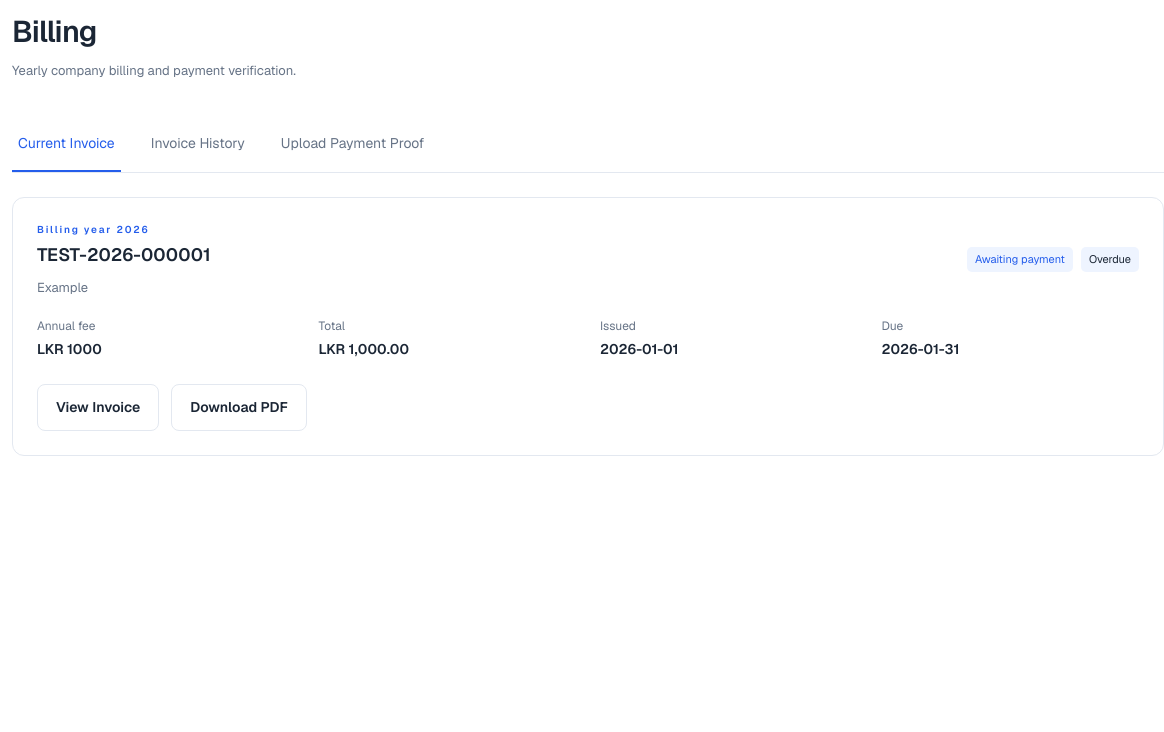
automatically loads the current invoice and switches Chief Steward tabs with keyboard
Expected: the heading "TEST-2026-000001" is shown, top-left (37, 240), bottom-right (211, 268)
Press ArrowRight in the tab "Current Invoice", box top-left (12, 116), bottom-right (121, 172)
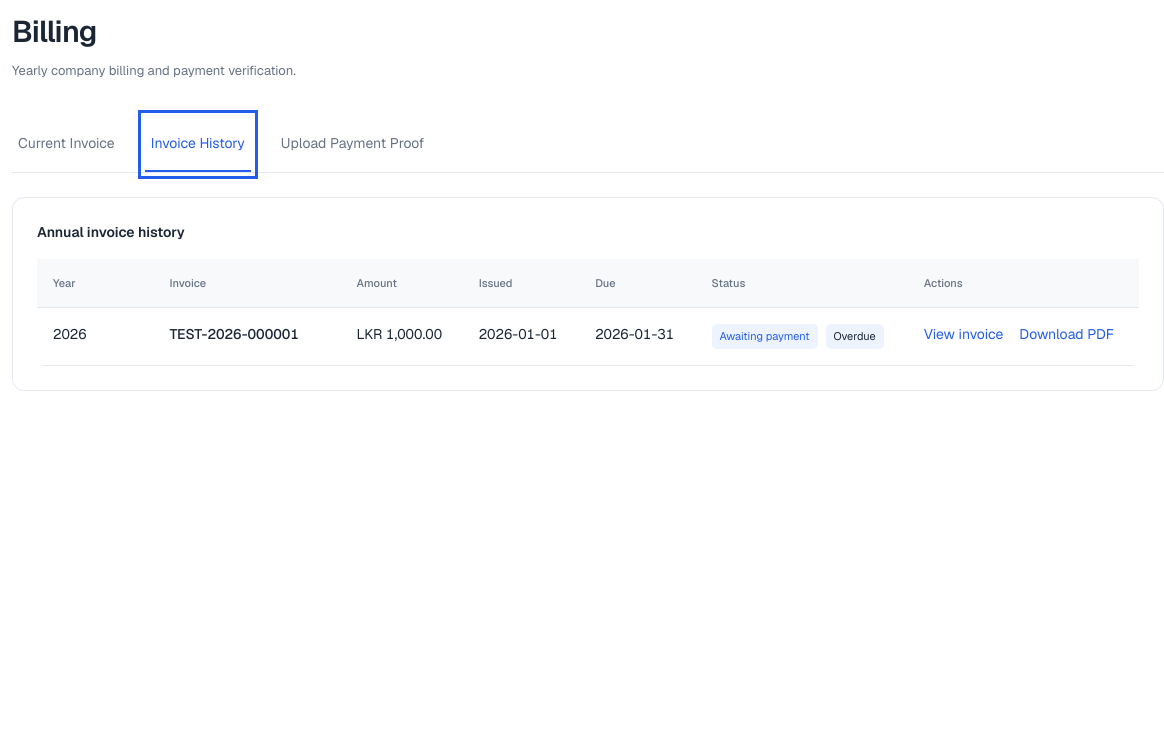
Now the tab "Invoice History" is selected, box top-left (145, 116), bottom-right (251, 172)
Click the tab "Upload Payment Proof".
click(353, 144)  # box top-left (275, 116), bottom-right (430, 172)
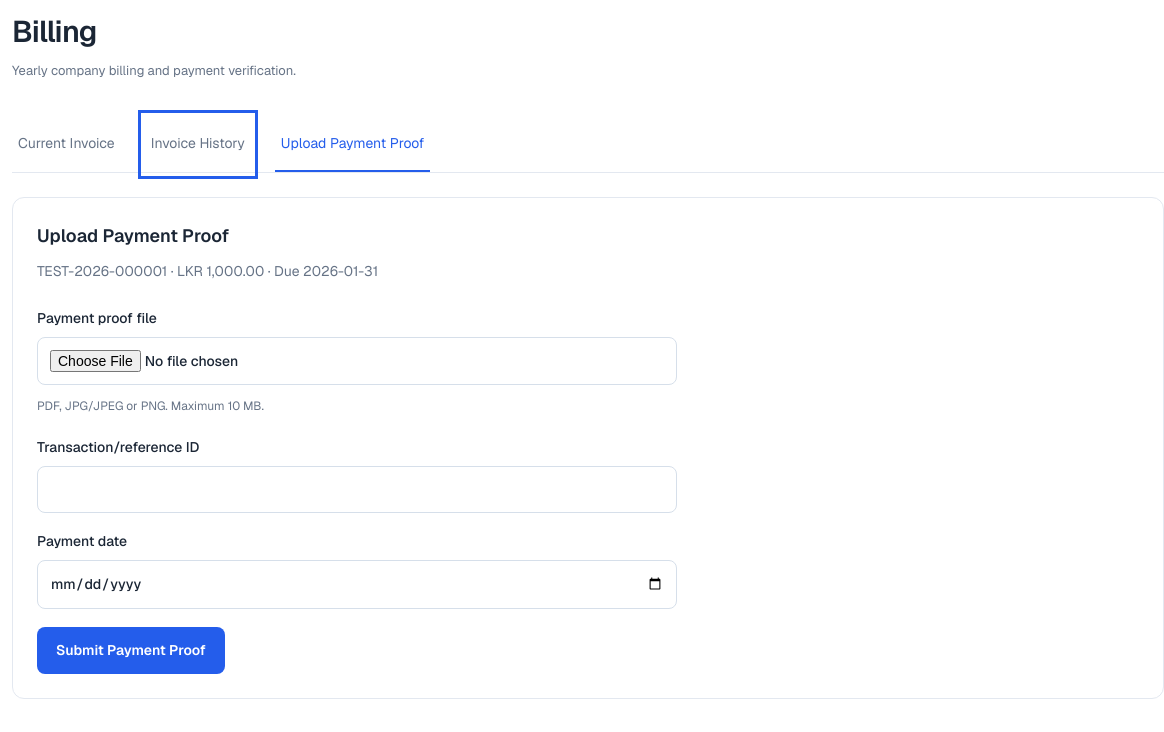
Now the field labelled "Transaction/reference ID" is shown, box top-left (37, 466), bottom-right (677, 512)
